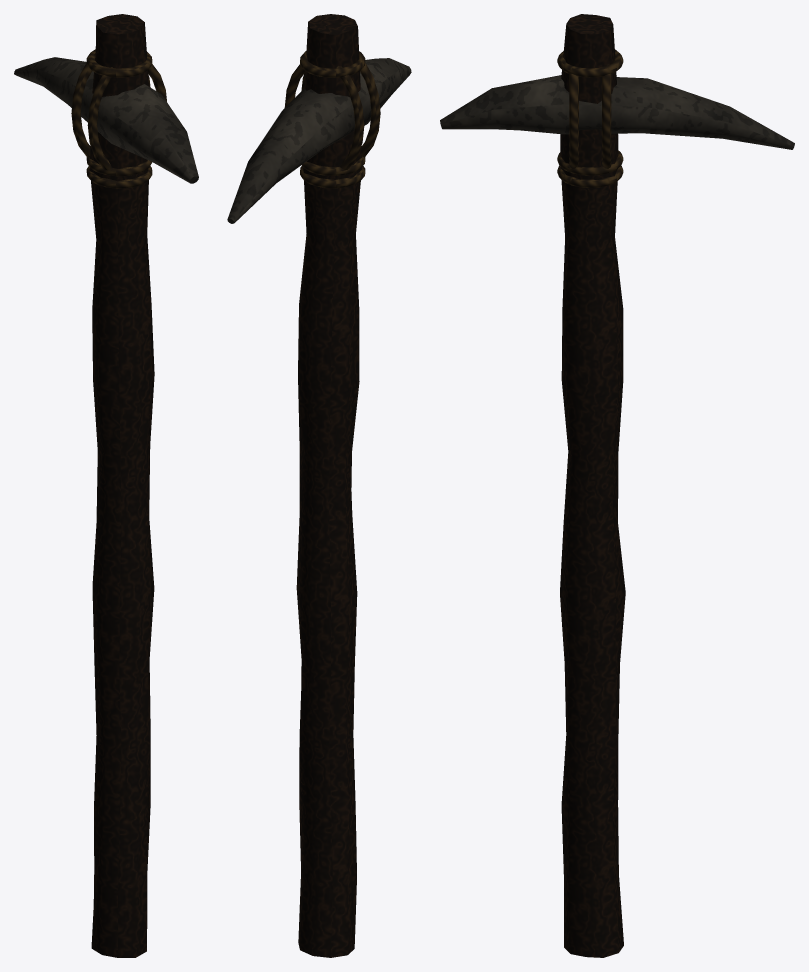
The model's file is stone_pick.glb.
The picture shows the model from 3 angles, left to right: view 1: azimuth 30°, elevation 25°; view 2: azimuth 150°, elevation 25°; view 3: azimuth 270°, elevation 25°; orthographic projection.
Parts seen in each view (by area): view 1: stone_pick; view 2: stone_pick; view 3: stone_pick.
Boxes of the visible parts, <box> form: stone_pick: <box>14,14,198,957</box>; stone_pick: <box>227,14,411,957</box>; stone_pick: <box>440,14,794,957</box>.
Size of the model in its own units: 0.0667 by 0.7509 by 0.2619.
3 materials, 3 textured.
